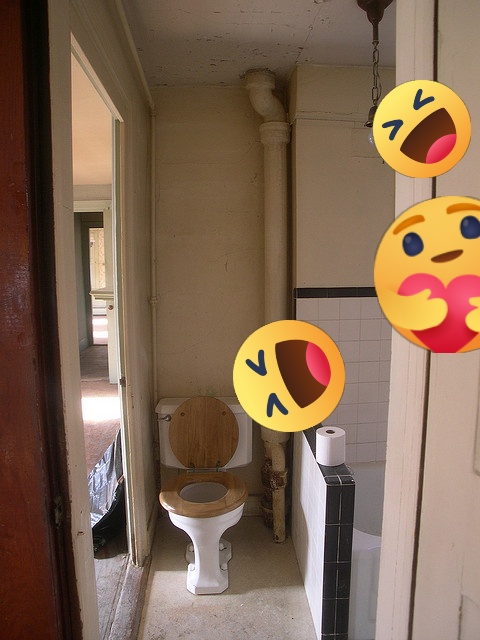care: (374, 196, 480, 353)
haha: (233, 320, 345, 432), (373, 80, 471, 178)
